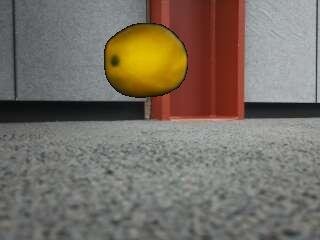lemon: (105, 25, 186, 98)
